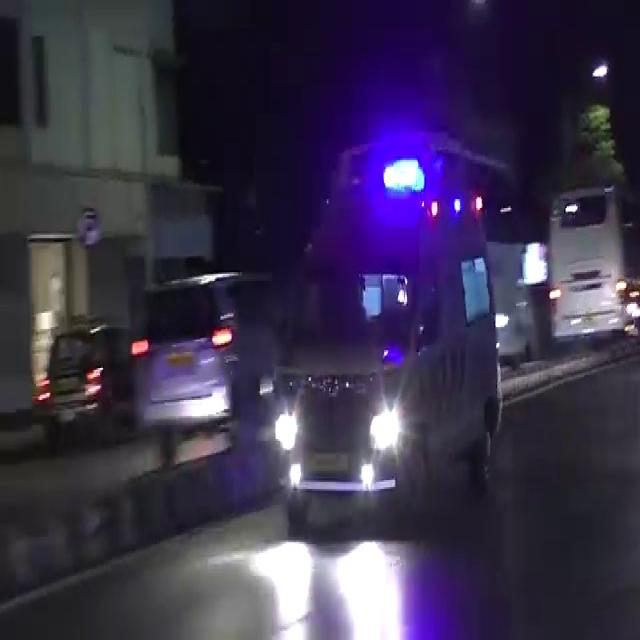ambulance: (249, 192, 495, 508)
